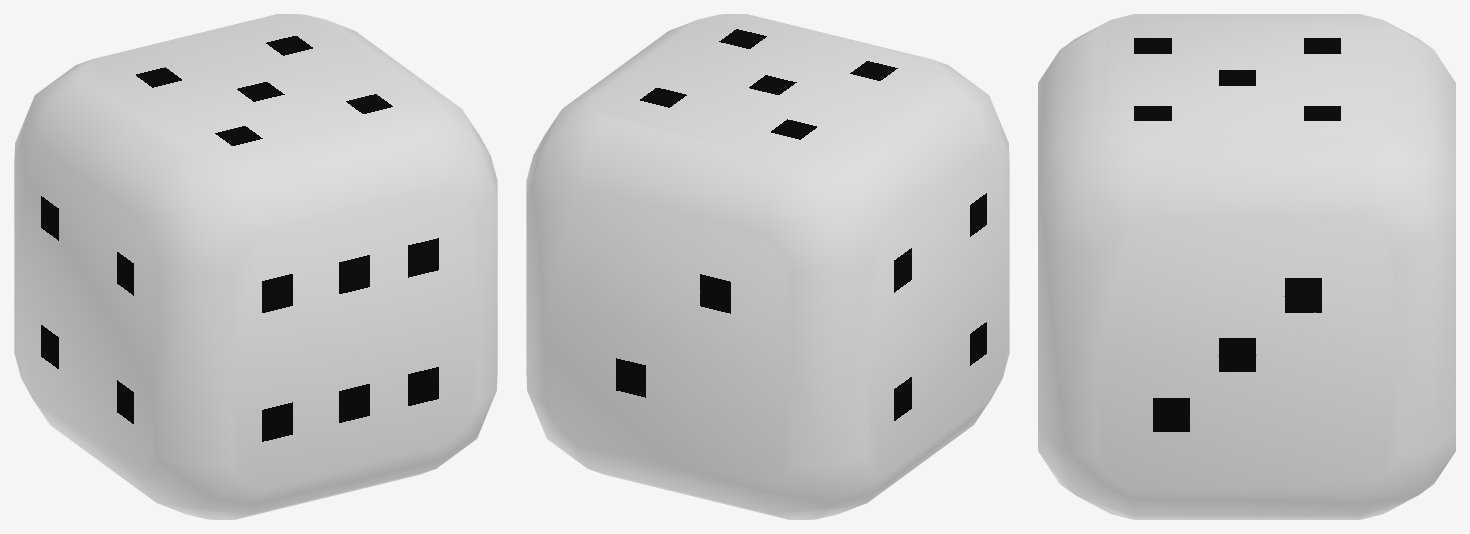
Rendered from dice.glb.
The picture shows the model from 3 angles, left to right: view 1: azimuth 30°, elevation 25°; view 2: azimuth 150°, elevation 25°; view 3: azimuth 270°, elevation 25°; orthographic projection. The views are drawn at different scales.
Visible parts, largest first — view 1: Dice; view 2: Dice; view 3: Dice.
Boxes of the visible parts, bbox=[...] form: Dice: bbox=[14, 14, 497, 519]; Dice: bbox=[526, 14, 1009, 519]; Dice: bbox=[1038, 14, 1455, 519].
Size of the model in its own units: 2 by 2 by 2.
1 material, 1 textured.
